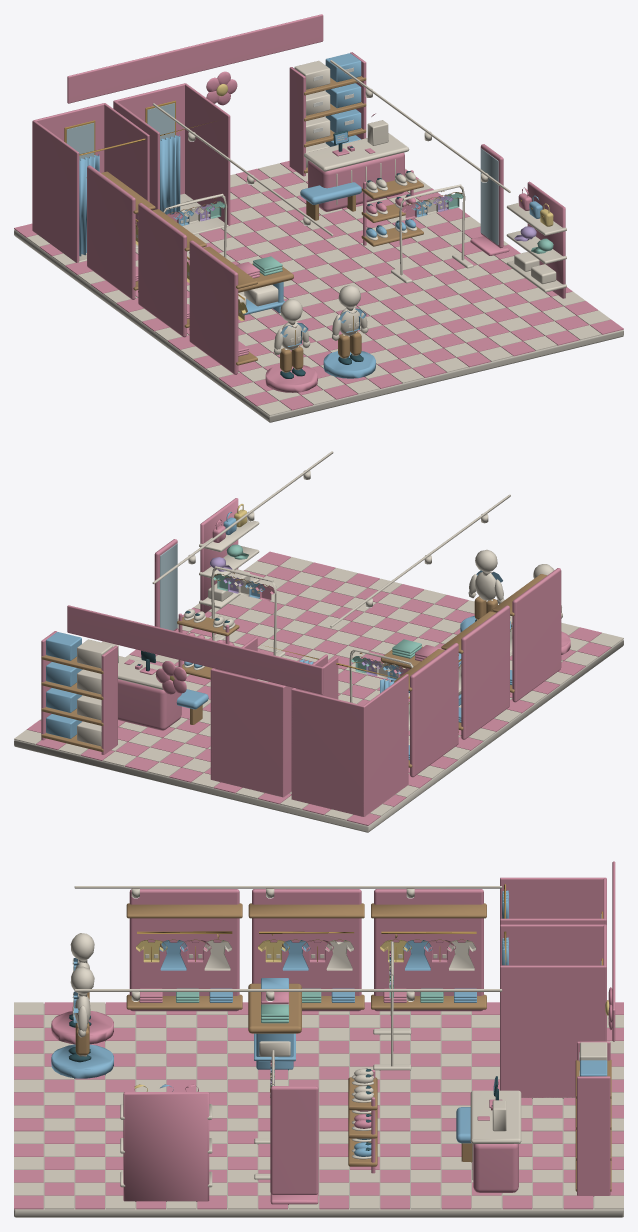
File: shop_B.glb
3 views of the same model, one above another, from view 1: azimuth 30°, elevation 25°; view 2: azimuth 150°, elevation 25°; view 3: azimuth 270°, elevation 25° (orthographic). The views are drawn at different scales.
Visible parts, largest first — view 1: floor, svc:5:FIXTURE_Fitting_01.001, svc:7:FIXTURE_Fitting_02, svc:21:Store_Brand_Panel, svc:1:FIXTURE_Back_Stock.001, room:9:FIXTURE_Left_Wall_Apparel.002, room:11:FIXTURE_Left_Wall_Apparel.004, room:10:FIXTURE_Left_Wall_Apparel.003, svc:2:FIXTURE_Checkout.001, room:0:FIXTURE_Accessories.001, room:15:FIXTURE_Window_Outfit_01.001, room:16:FIXTURE_Window_Outfit_02 (+11 smaller); view 2: floor, svc:5:FIXTURE_Fitting_01.001, svc:7:FIXTURE_Fitting_02, svc:1:FIXTURE_Back_Stock.001, svc:21:Store_Brand_Panel, room:9:FIXTURE_Left_Wall_Apparel.002, room:10:FIXTURE_Left_Wall_Apparel.003, room:11:FIXTURE_Left_Wall_Apparel.004, room:0:FIXTURE_Accessories.001, svc:2:FIXTURE_Checkout.001, room:4:FIXTURE_Customer_Mirror.001, room:16:FIXTURE_Window_Outfit_02 (+8 smaller); view 3: floor, svc:7:FIXTURE_Fitting_02, room:9:FIXTURE_Left_Wall_Apparel.002, room:11:FIXTURE_Left_Wall_Apparel.004, room:10:FIXTURE_Left_Wall_Apparel.003, room:0:FIXTURE_Accessories.001, room:4:FIXTURE_Customer_Mirror.001, svc:1:FIXTURE_Back_Stock.001, svc:2:FIXTURE_Checkout.001, svc:5:FIXTURE_Fitting_01.001, room:12:FIXTURE_Pastel_Edit, room:16:FIXTURE_Window_Outfit_02 (+7 smaller).
Part boxes in pixels (<box>): floor: <box>14,161,623,422</box>; svc:5:FIXTURE_Fitting_01.001: <box>32,103,149,262</box>; svc:7:FIXTURE_Fitting_02: <box>113,83,230,234</box>; svc:21:Store_Brand_Panel: <box>67,14,323,103</box>; svc:1:FIXTURE_Back_Stock.001: <box>289,52,366,176</box>; room:9:FIXTURE_Left_Wall_Apparel.002: <box>189,240,257,374</box>; room:11:FIXTURE_Left_Wall_Apparel.004: <box>86,165,155,299</box>; room:10:FIXTURE_Left_Wall_Apparel.003: <box>138,203,206,337</box>; svc:2:FIXTURE_Checkout.001: <box>304,113,409,211</box>; room:0:FIXTURE_Accessories.001: <box>506,181,566,298</box>; room:15:FIXTURE_Window_Outfit_01.001: <box>265,299,317,392</box>; room:16:FIXTURE_Window_Outfit_02: <box>323,285,375,378</box>; floor: <box>14,551,623,832</box>; svc:5:FIXTURE_Fitting_01.001: <box>291,657,408,816</box>; svc:7:FIXTURE_Fitting_02: <box>210,637,327,797</box>; svc:1:FIXTURE_Back_Stock.001: <box>41,631,117,754</box>; svc:21:Store_Brand_Panel: <box>67,605,323,694</box>; room:9:FIXTURE_Left_Wall_Apparel.002: <box>492,568,561,702</box>; room:10:FIXTURE_Left_Wall_Apparel.003: <box>441,605,510,739</box>; room:11:FIXTURE_Left_Wall_Apparel.004: <box>394,643,458,777</box>; room:0:FIXTURE_Accessories.001: <box>199,498,259,613</box>; svc:2:FIXTURE_Checkout.001: <box>82,641,181,730</box>; room:4:FIXTURE_Customer_Mirror.001: <box>154,539,177,630</box>; room:16:FIXTURE_Window_Outfit_02: <box>460,549,512,632</box>; floor: <box>14,1002,623,1217</box>; svc:7:FIXTURE_Fitting_02: <box>500,924,606,1098</box>; room:9:FIXTURE_Left_Wall_Apparel.002: <box>126,889,242,1011</box>; room:11:FIXTURE_Left_Wall_Apparel.004: <box>371,889,486,1011</box>; room:10:FIXTURE_Left_Wall_Apparel.003: <box>248,889,364,1011</box>; room:0:FIXTURE_Accessories.001: <box>120,1084,212,1201</box>; room:4:FIXTURE_Customer_Mirror.001: <box>270,1086,318,1204</box>; svc:1:FIXTURE_Back_Stock.001: <box>575,1041,611,1196</box>; svc:2:FIXTURE_Checkout.001: <box>470,1076,521,1193</box>; svc:5:FIXTURE_Fitting_01.001: <box>500,877,606,925</box>; room:12:FIXTURE_Pastel_Edit: <box>248,978,301,1070</box>; room:16:FIXTURE_Window_Outfit_02: <box>51,966,113,1078</box>.
Bounding box in the file's own units: 7.99 × 3.25 × 9.99.
